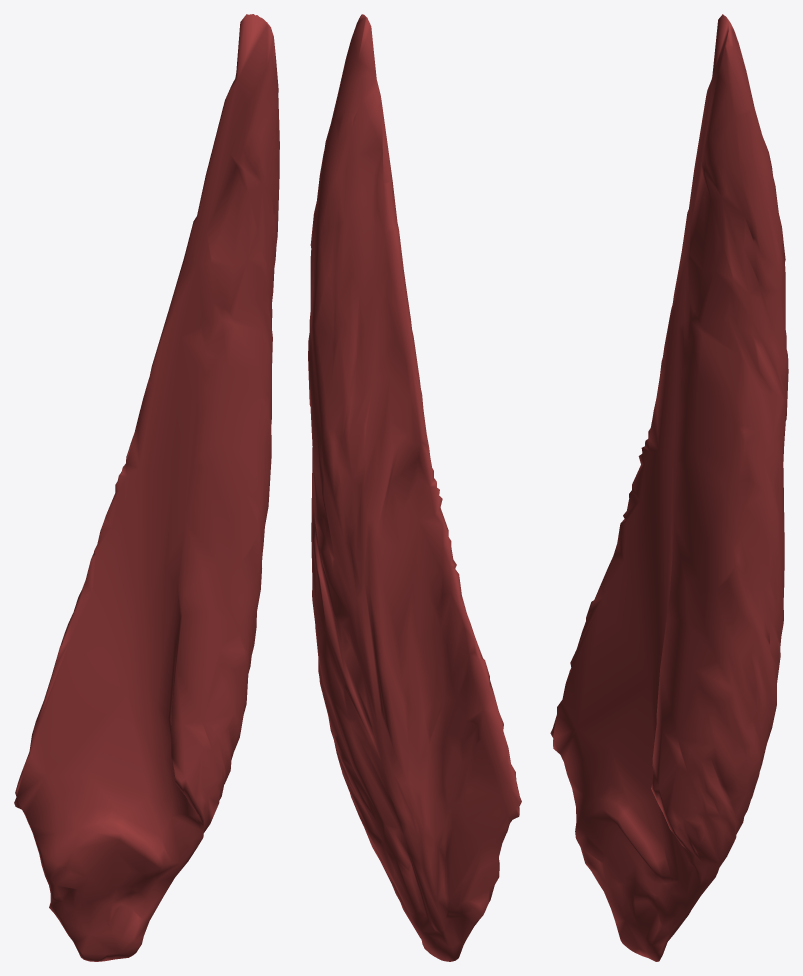
Rendered from medial-head-of-triceps-brachii-r.glb.
The picture shows the model from 3 angles, left to right: view 1: azimuth 30°, elevation 25°; view 2: azimuth 150°, elevation 25°; view 3: azimuth 330°, elevation 25°; orthographic projection. The views are drawn at different scales.
Visible parts, largest first — view 1: Medial head of triceps brachii.r; view 2: Medial head of triceps brachii.r; view 3: Medial head of triceps brachii.r.
Part boxes in pixels (box(x1,y1,x2,y2)): Medial head of triceps brachii.r: box(14, 14, 279, 961); Medial head of triceps brachii.r: box(308, 14, 521, 961); Medial head of triceps brachii.r: box(550, 14, 788, 961).
Bounding box in the file's own units: 0.0623 × 0.2343 × 0.0267.
